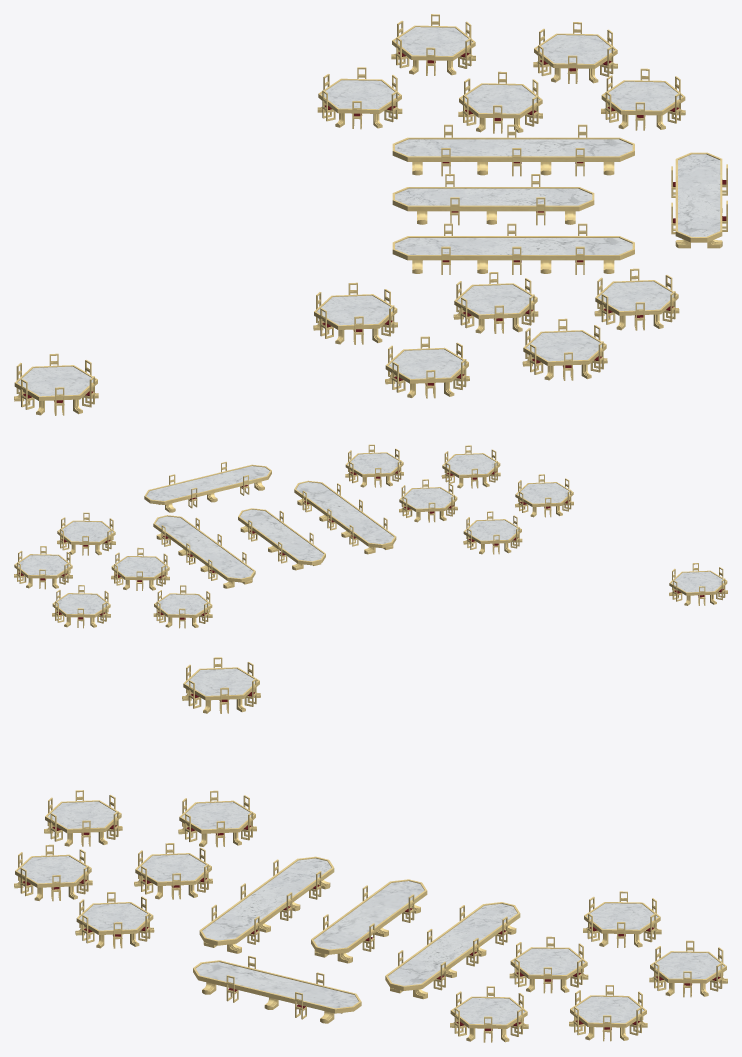
Rendered from mesasLibrary.fbx.
The picture shows the model from 3 angles, top to bottom: view 1: azimuth 30°, elevation 25°; view 2: azimuth 150°, elevation 25°; view 3: azimuth 270°, elevation 25°; orthographic projection. The views are drawn at different scales.
Parts seen in each view (by area): view 1: Cube.023, Cube.022, Objeto_177.012, Objeto_177.011, Objeto_177.013, Objeto_177.014, Cube.205; view 2: Cube.023, Cube.022, Objeto_177.012, Objeto_177.011, Objeto_177.014, Objeto_177.013, Cube.205; view 3: Cube.023, Cube.022, Objeto_177.012, Objeto_177.011, Objeto_177.014, Objeto_177.013, Cube.205.
Part boxes in pixels (x1=…): Cube.023: x1=313, y1=268, x2=679, y2=398; Cube.022: x1=317, y1=14, x2=685, y2=133; Objeto_177.012: x1=392, y1=137, x2=634, y2=161; Objeto_177.011: x1=392, y1=236, x2=634, y2=260; Objeto_177.013: x1=392, y1=187, x2=594, y2=211; Objeto_177.014: x1=675, y1=152, x2=722, y2=242; Cube.205: x1=14, y1=353, x2=98, y2=415; Cube.023: x1=345, y1=444, x2=573, y2=554; Cube.022: x1=14, y1=512, x2=212, y2=628; Objeto_177.012: x1=153, y1=515, x2=255, y2=582; Objeto_177.011: x1=294, y1=480, x2=396, y2=548; Objeto_177.014: x1=144, y1=464, x2=271, y2=504; Objeto_177.013: x1=238, y1=508, x2=325, y2=565; Cube.205: x1=669, y1=563, x2=727, y2=605; Cube.023: x1=14, y1=790, x2=256, y2=948; Cube.022: x1=450, y1=891, x2=727, y2=1042; Objeto_177.012: x1=385, y1=902, x2=520, y2=990; Objeto_177.011: x1=199, y1=856, x2=334, y2=945; Objeto_177.014: x1=193, y1=960, x2=361, y2=1013; Objeto_177.013: x1=311, y1=879, x2=427, y2=954; Cube.205: x1=182, y1=657, x2=260, y2=713.
Bounding box in the file's own units: 34.05 × 1.17 × 28.52.
6 materials, 4 textured.
